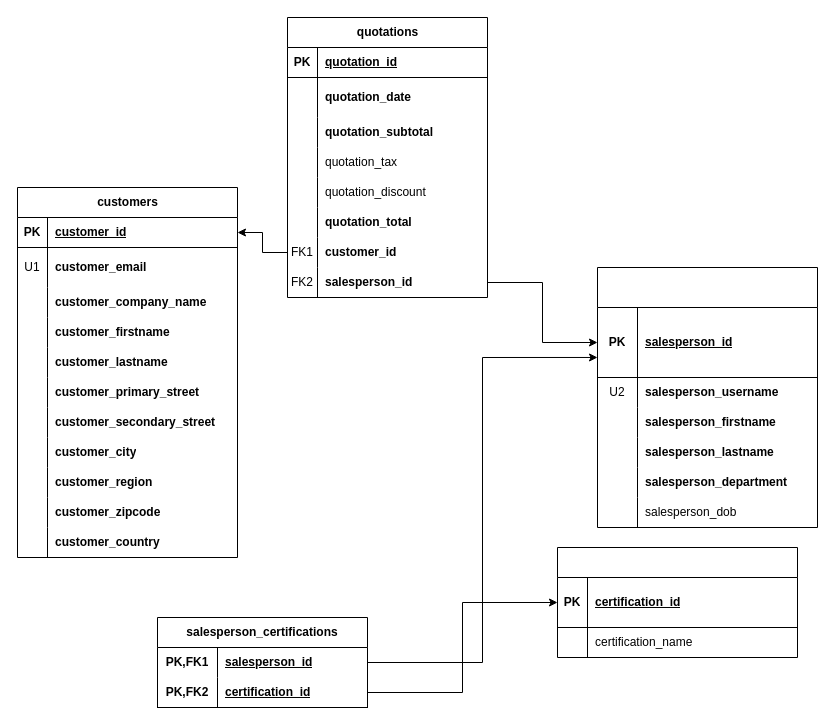
Some shapes in this 835 by 725 pixel diagram are drawn without their labels. Here are the shapes that lost their labels. From the top down, the box of each, then its label:
(596, 266, 818, 528): salespersons
(556, 546, 798, 658): certifications
